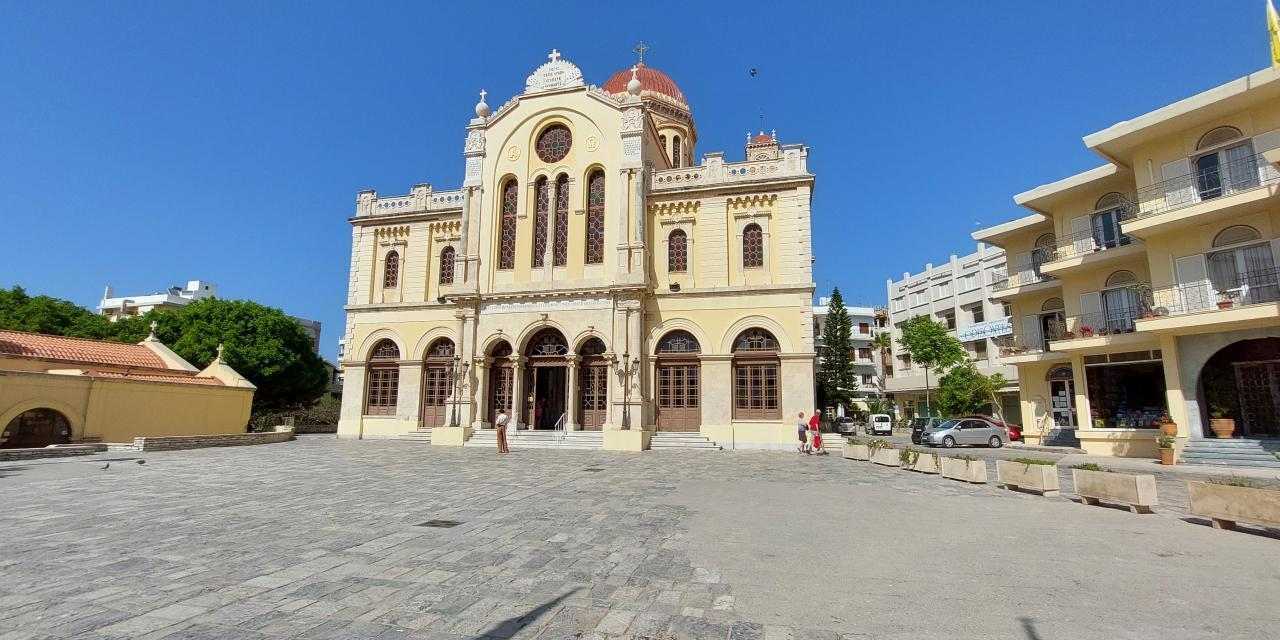Agios Minas: (344, 41, 837, 456)
